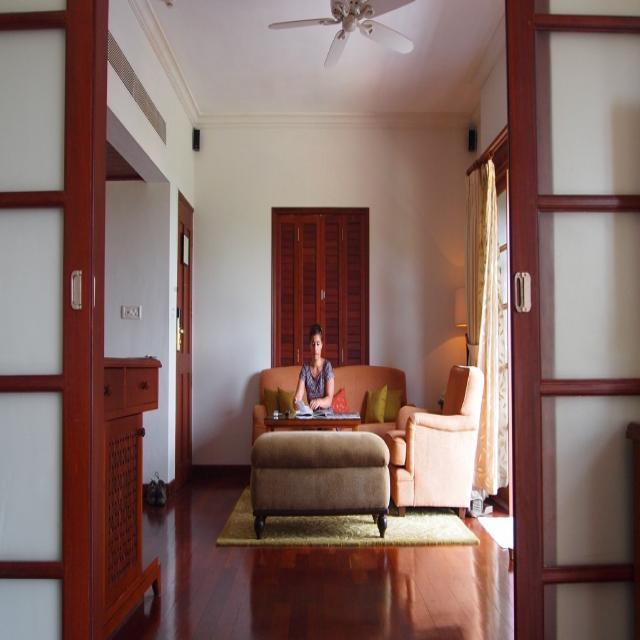fan_off: (268, 0, 427, 69)
